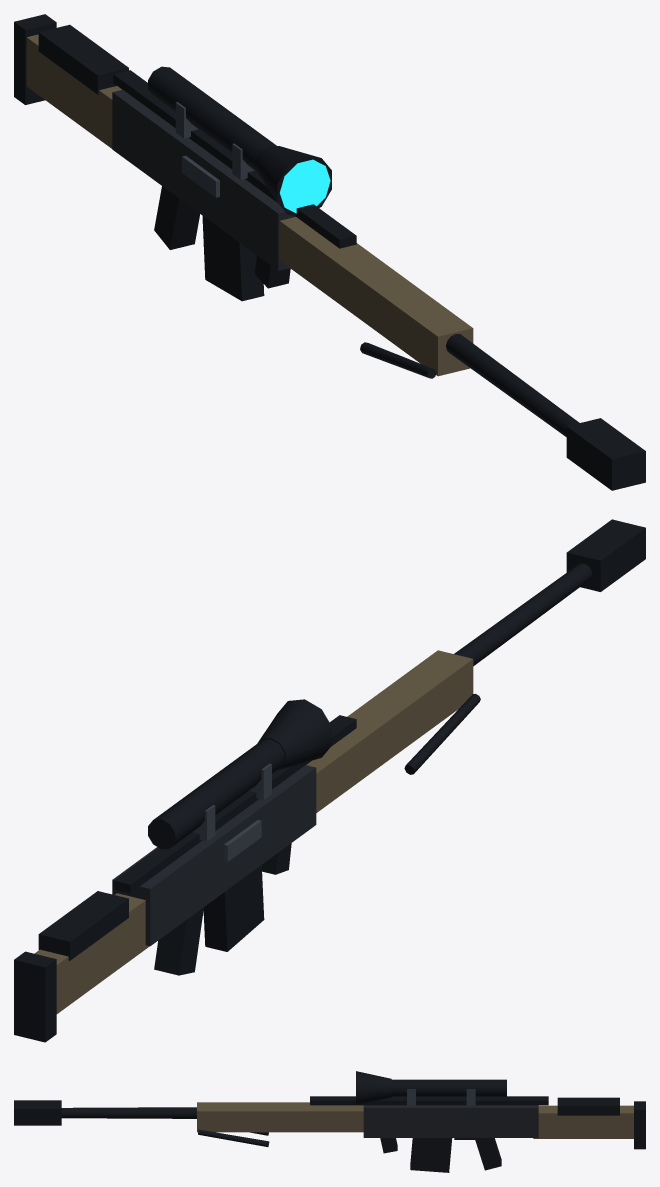
The model's file is barrett.glb.
3 views of the same model, one above another, from view 1: azimuth 30°, elevation 25°; view 2: azimuth 150°, elevation 25°; view 3: azimuth 270°, elevation 25° (orthographic). The views are drawn at different scales.
Parts seen in each view (by area): view 1: Weapon_barrett; view 2: Weapon_barrett; view 3: Weapon_barrett.
Part boxes in pixels (left/top/right/bottom): Weapon_barrett: left=14, top=14, right=645, bottom=490; Weapon_barrett: left=14, top=519, right=645, bottom=1042; Weapon_barrett: left=14, top=1071, right=645, bottom=1172.
Size of the model in its own units: 0.084 by 0.2712 by 1.59.
